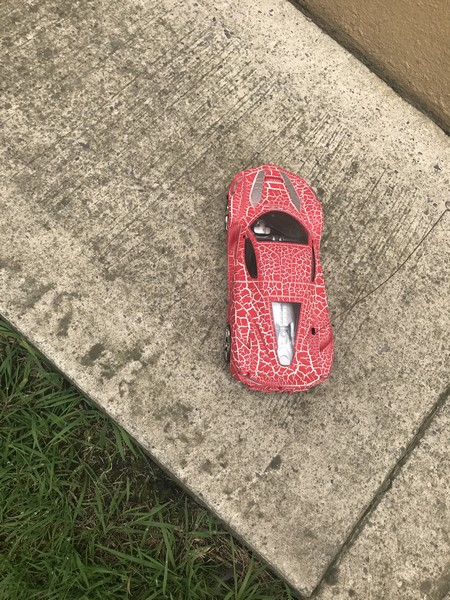RC: (222, 162, 336, 391)
